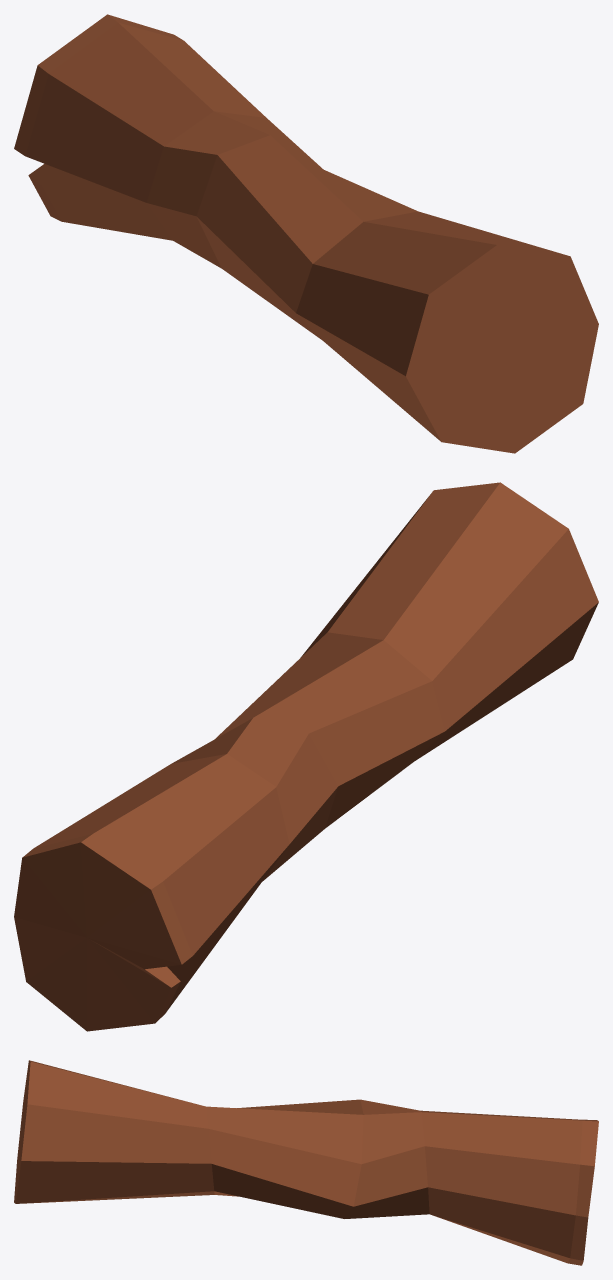
The model's file is Piece of wood 1.fbx.
3 renders of one model, top to bottom at view 1: azimuth 30°, elevation 25°; view 2: azimuth 150°, elevation 25°; view 3: azimuth 270°, elevation 25°, orthographic. The views are drawn at different scales.
Parts seen in each view (by area): view 1: Piece of wood 1; view 2: Piece of wood 1; view 3: Piece of wood 1.
Boxes of the visible parts, x1,y1,x2,y2 form: Piece of wood 1: [14, 14, 598, 453]; Piece of wood 1: [14, 482, 598, 1031]; Piece of wood 1: [14, 1060, 598, 1265].
Size of the model in its own units: 17.73 by 24.45 by 66.55.
